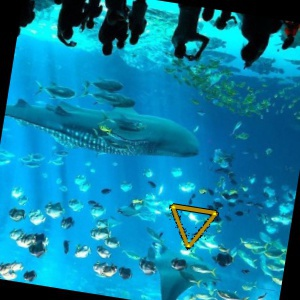triangle: (168, 198, 220, 251)
